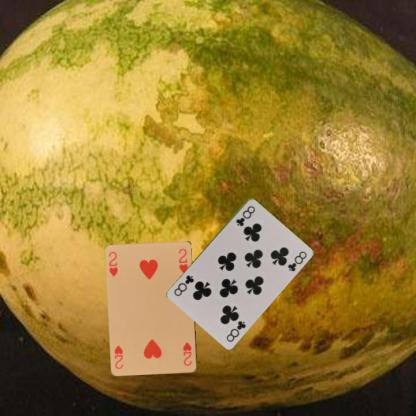2h: (106, 249, 119, 278), (181, 340, 193, 367)
8c: (224, 318, 247, 343), (234, 203, 256, 227)
